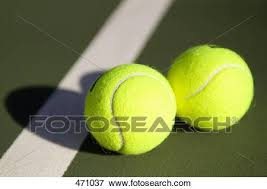tennis_ball: (84, 64, 175, 156), (167, 44, 255, 132)
